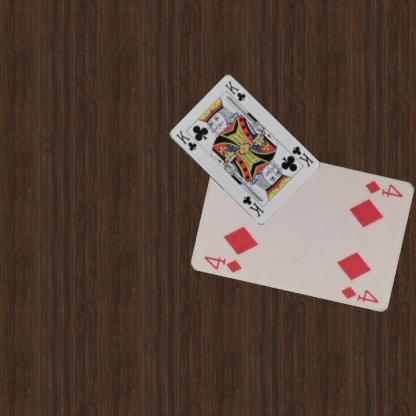4d: (362, 178, 404, 199), (202, 253, 244, 274)
Kc: (288, 143, 314, 168), (174, 127, 198, 152)
